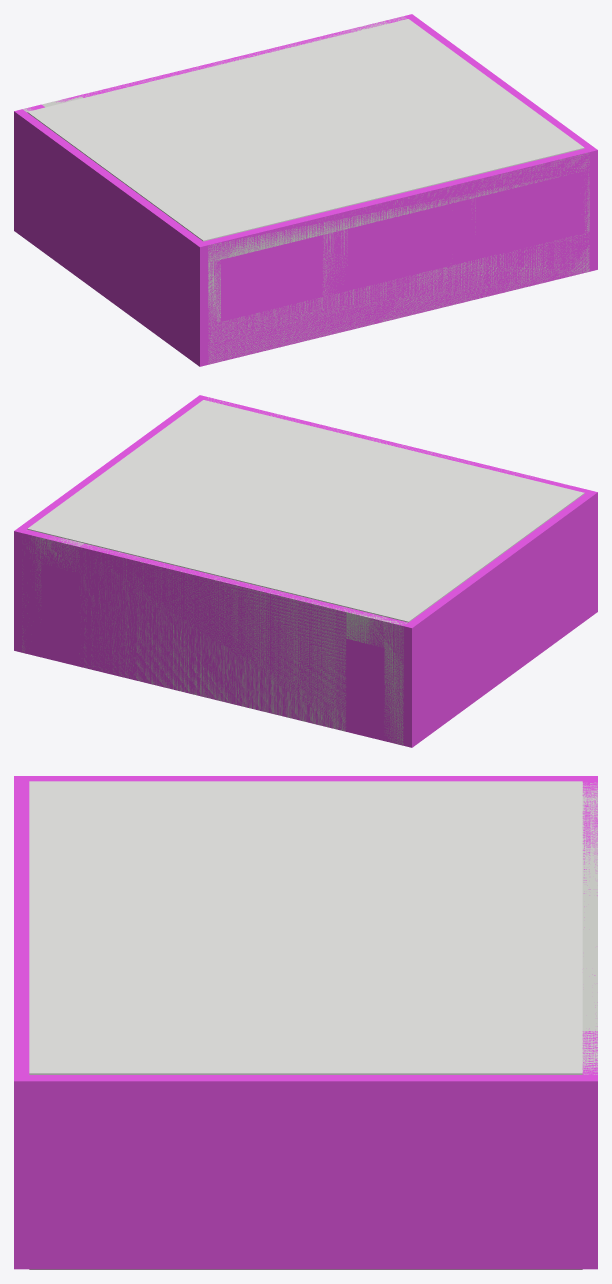
File: mokwon_room12_blockout.glb
The picture shows the model from 3 angles, top to bottom: view 1: azimuth 30°, elevation 25°; view 2: azimuth 150°, elevation 25°; view 3: azimuth 270°, elevation 25°; orthographic projection. The views are drawn at different scales.
Parts seen in each view (by area): view 1: ceiling, col_wall_window, col_wall_front, wall_win_sill, wall_win_head, col_wall_back, col_wall_corridor, wall_win_pier0, wall_cor_seg1; view 2: ceiling, col_wall_corridor, col_wall_front, wall_cor_seg1, col_wall_back, wall_cor_seg0, col_wall_window, wall_cor_head0, wall_cor_head1; view 3: ceiling, col_wall_back, col_wall_window, col_wall_front, wall_cor_seg1, col_wall_corridor.
Boxes of the visible parts, bbox=[...] form: ceiling: bbox=[27, 19, 584, 241]; col_wall_window: bbox=[204, 148, 589, 364]; col_wall_front: bbox=[14, 109, 208, 366]; wall_win_sill: bbox=[208, 233, 589, 364]; wall_win_head: bbox=[208, 153, 589, 262]; col_wall_back: bbox=[404, 14, 597, 271]; col_wall_corridor: bbox=[23, 16, 406, 110]; wall_win_pier0: bbox=[208, 260, 220, 324]; wall_cor_seg1: bbox=[82, 30, 349, 96]; ceiling: bbox=[27, 400, 584, 622]; col_wall_corridor: bbox=[22, 529, 407, 745]; col_wall_front: bbox=[403, 490, 597, 747]; wall_cor_seg1: bbox=[79, 544, 347, 731]; col_wall_back: bbox=[14, 395, 207, 652]; wall_cor_seg0: bbox=[384, 619, 407, 745]; col_wall_window: bbox=[205, 397, 588, 493]; wall_cor_head0: bbox=[346, 609, 387, 646]; wall_cor_head1: bbox=[41, 536, 83, 571]; ceiling: bbox=[29, 781, 582, 1074]; col_wall_back: bbox=[14, 1075, 597, 1269]; col_wall_window: bbox=[14, 782, 29, 1074]; col_wall_front: bbox=[14, 776, 597, 782]; wall_cor_seg1: bbox=[582, 826, 597, 1030]; col_wall_corridor: bbox=[582, 782, 597, 1074].
Size of the model in its own units: 9.4 by 2.82 by 7.6.
